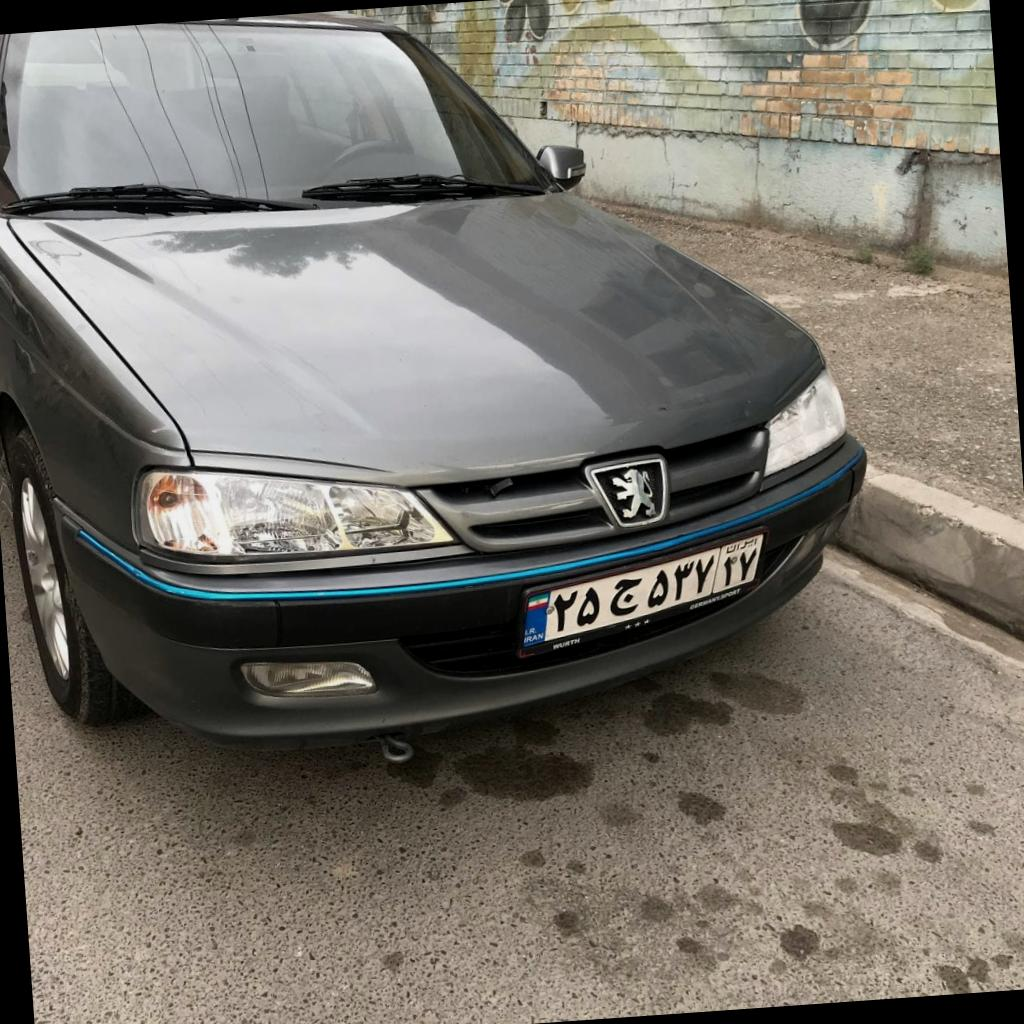Plates: (524, 534, 764, 647)
